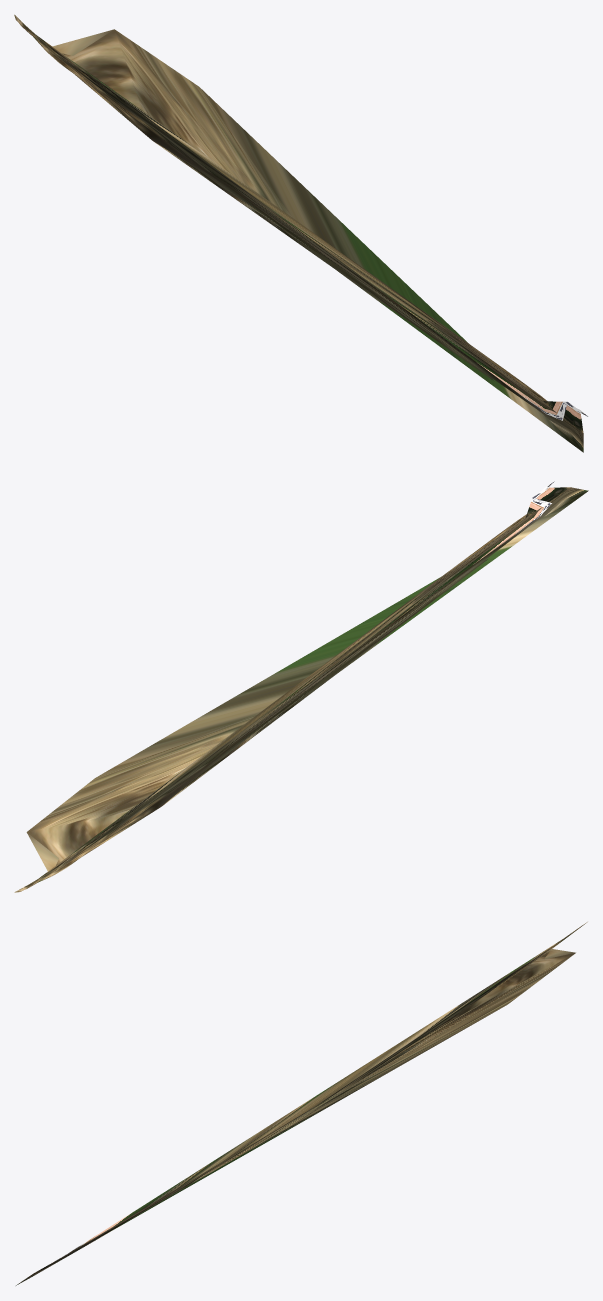
Rendered from statue1.obj.
The picture shows the model from 3 angles, top to bottom: view 1: azimuth 30°, elevation 25°; view 2: azimuth 150°, elevation 25°; view 3: azimuth 330°, elevation 25°; orthographic projection. The views are drawn at different scales.
Size of the model in its own units: 0.0853 by 0.0444 by 1.01.
Materials: 1 (1 with a texture image).
